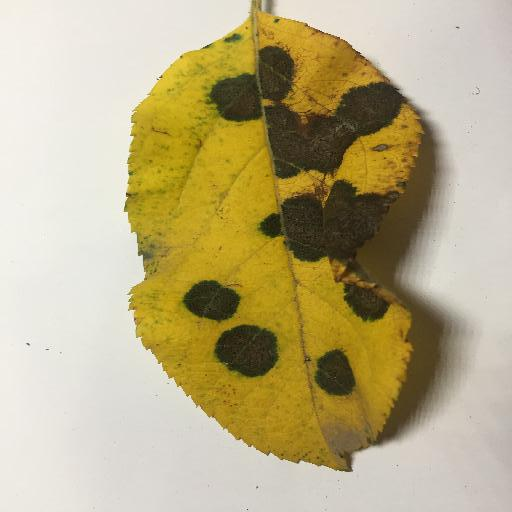Brown_Spot: (217, 61, 392, 163), (260, 183, 388, 256), (230, 322, 274, 369), (313, 354, 356, 399), (194, 281, 232, 315), (351, 290, 387, 324)
